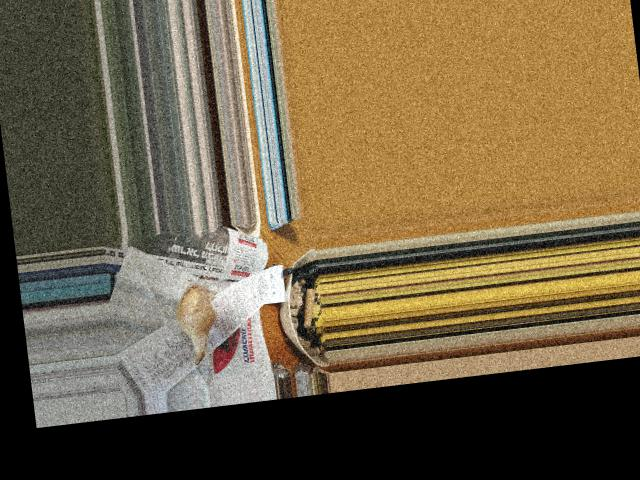onion: (174, 279, 214, 342)
